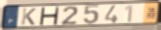1: (124, 4, 134, 23)
2: (61, 5, 81, 26)
4: (103, 4, 119, 25)
5: (83, 4, 100, 26)
H: (38, 6, 60, 26)
K: (20, 8, 37, 26)
